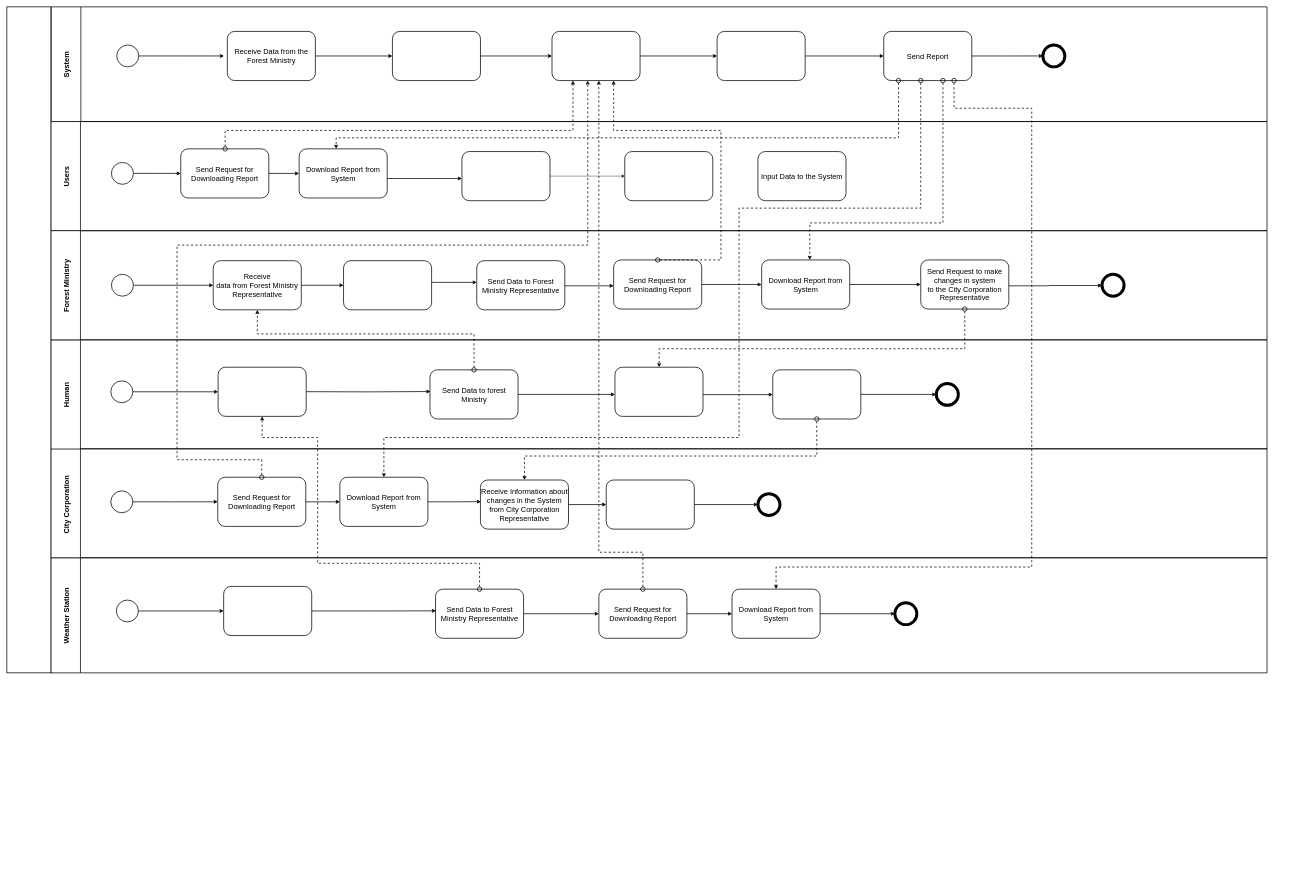
Image size: 1312x892. Some labels were removed from this diagram. The centre of each missing label's shape, as x and y in pixels:
"Air Quality Index" belongs at point 28,339.
"Collect Data from Weather monitoring Devices" belongs at point 267,611.
"Collect Data from Weather Station" belongs at point 262,392.
"Generate the Report" belongs at point 761,56.
"Make Changes in the System" belongs at point 650,504.
"Process the Data" belongs at point 387,285.
"Receive Data from Forest Ministry" belongs at point 505,176.
"Receive request for Downloading Report" belongs at point 595,56.
"Receive Request to make changes" belongs at point 658,392.
"Send Information about changes in the System to the City Corporation" belongs at point 816,394.
"Store data in the System" belongs at point 436,56.
"Verifies the data" belongs at point 668,176.
